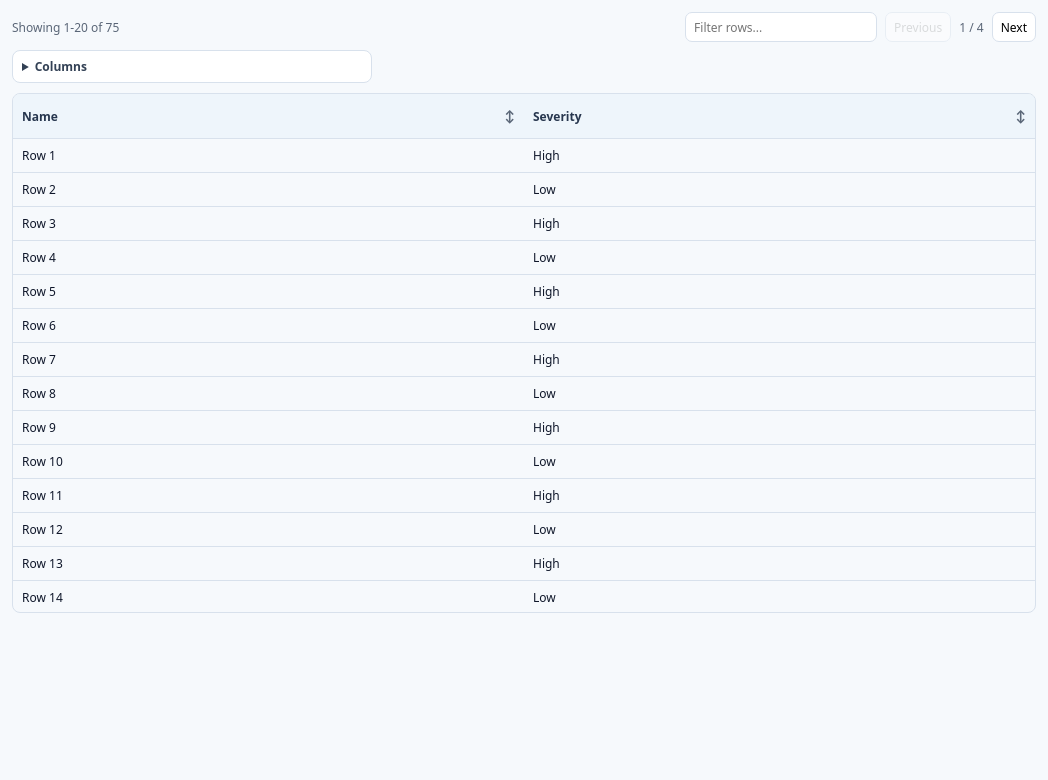
Test: VirtualTable › renders a bounded page and paginates without mounting every row
The image size is (1048, 780).
expect the text "Showing 1-20 of 75" is shown: met, box [12,18,119,36]
expect the text "Row 1" is shown: met, box [13,138,524,172]
Click the button with aria-label "next page".
click(1014, 27)  # box [992,12,1036,42]
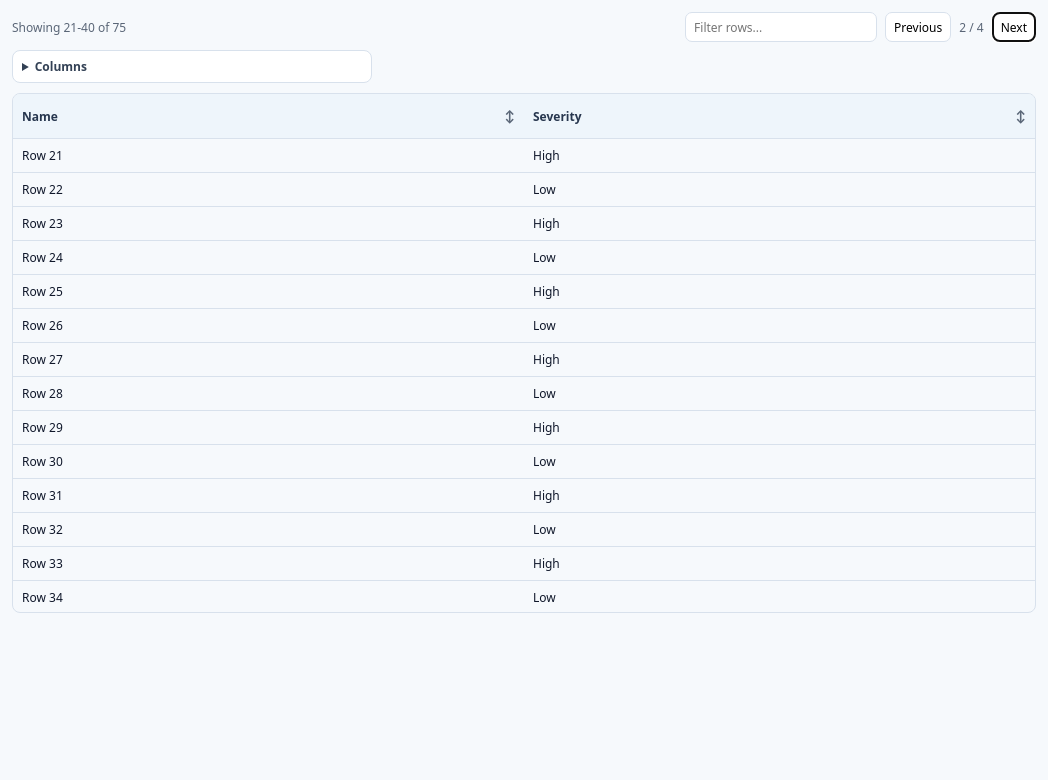
expect the text "Showing 21-40 of 75" is shown: met, box [12,18,126,36]
expect the text "Row 30" is shown: met, box [13,444,524,478]
